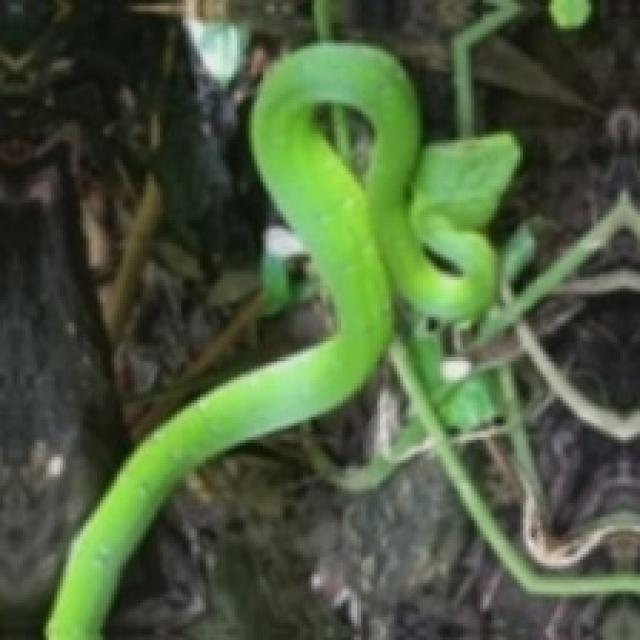north ph temple pitviper: (46, 43, 637, 637), (46, 43, 514, 637)
